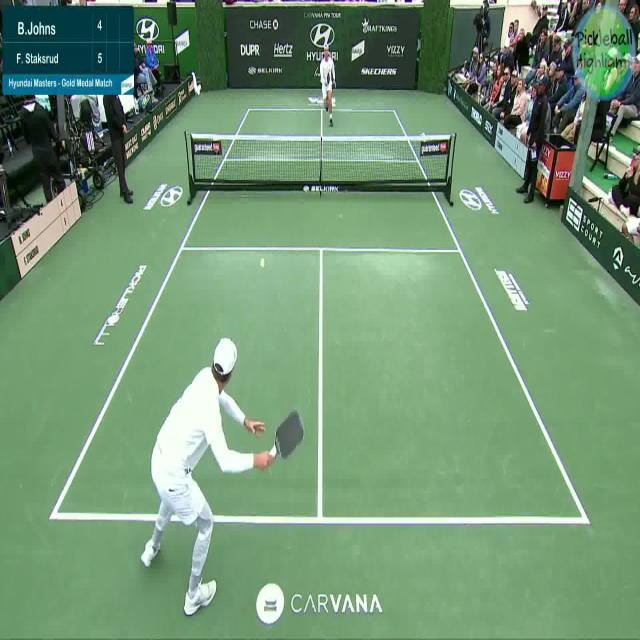ball: (256, 253, 270, 270)
